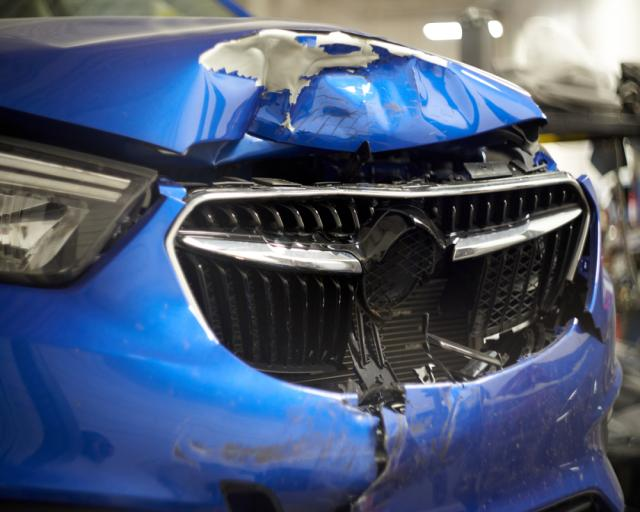crack: (337, 393, 391, 512), (573, 310, 606, 347)
dent: (194, 22, 477, 163)
scratch: (174, 429, 357, 475)
